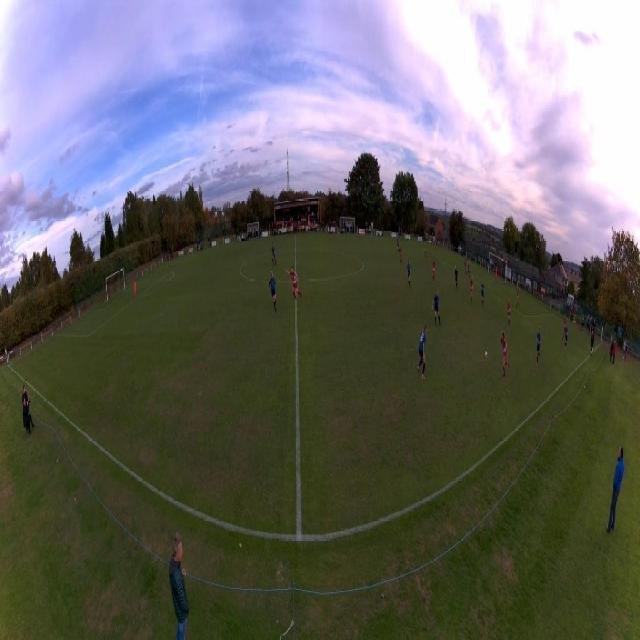ball: (485, 351, 488, 359)
player: (417, 323, 428, 380), (286, 264, 303, 300), (501, 330, 509, 377), (268, 271, 277, 312), (431, 289, 441, 325), (536, 325, 542, 366), (563, 321, 569, 349), (271, 242, 277, 267), (407, 260, 412, 288), (562, 315, 567, 340), (470, 276, 474, 305), (481, 279, 485, 308), (507, 298, 511, 326), (454, 266, 458, 290), (133, 279, 137, 301), (432, 258, 435, 283), (516, 290, 519, 309), (424, 247, 428, 261), (399, 246, 402, 264), (467, 262, 470, 280), (396, 236, 399, 253), (464, 259, 467, 276), (495, 266, 497, 282)
